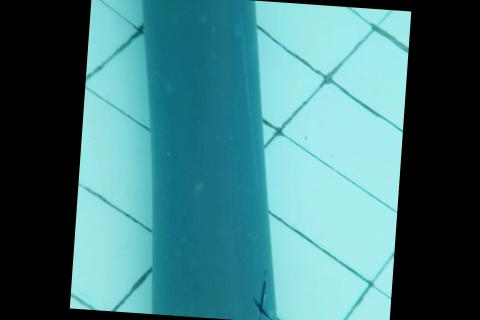keretakan: (246, 268, 278, 320)
